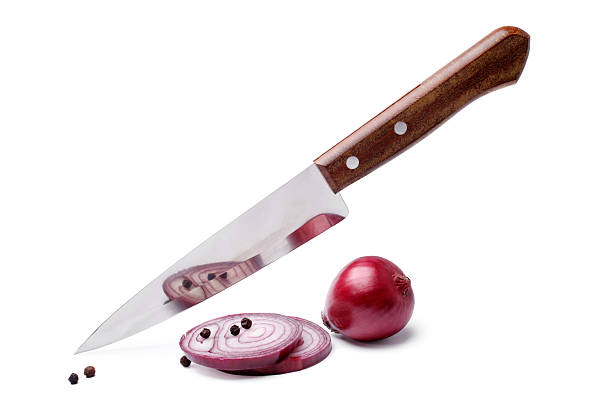knife: (68, 23, 533, 358)
